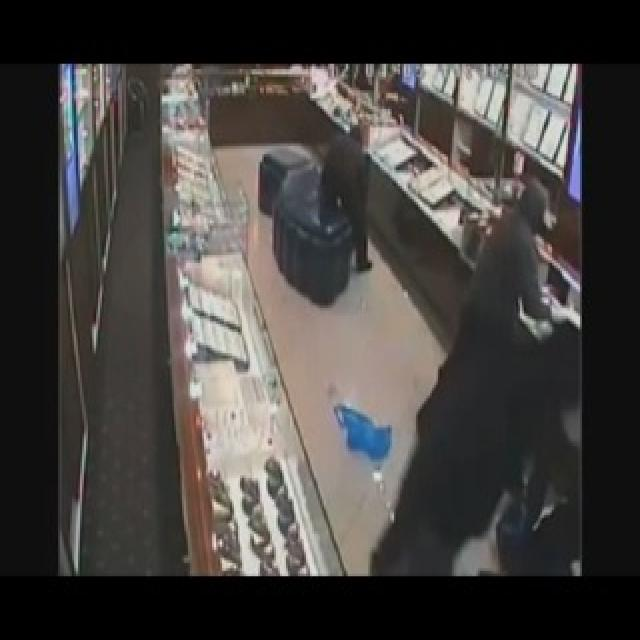thief: (444, 176, 562, 515), (297, 104, 388, 226)
